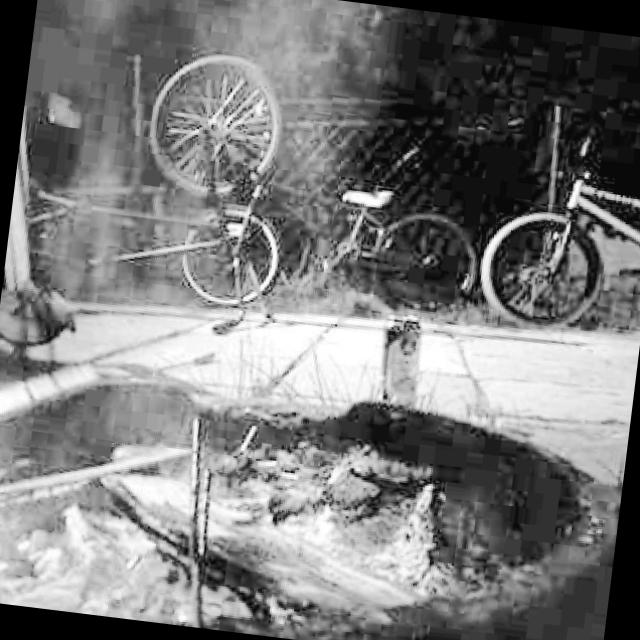Bicycle: (1, 27, 288, 326), (258, 146, 492, 354), (487, 110, 640, 321)
